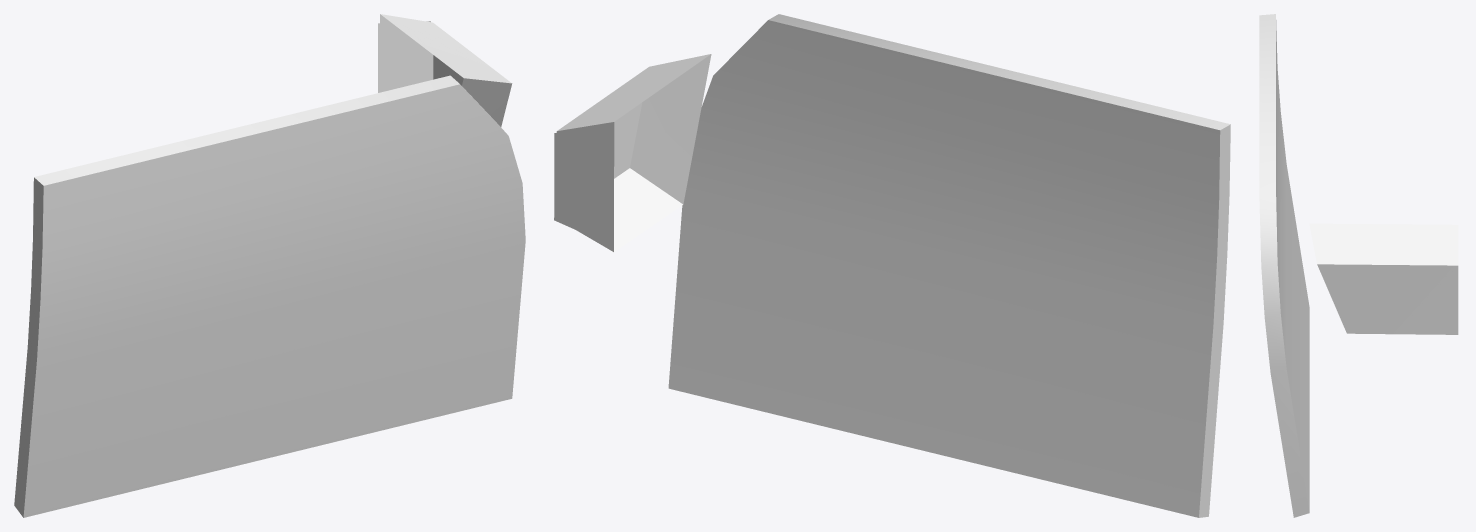
3 views of the same model, side by side, from view 1: azimuth 30°, elevation 25°; view 2: azimuth 150°, elevation 25°; view 3: azimuth 270°, elevation 25° (orthographic). The views are drawn at different scales.
Bounding box in the file's own units: 0.2328 × 0.1533 × 0.0941.
Materials: 1 (1 with a texture image).
